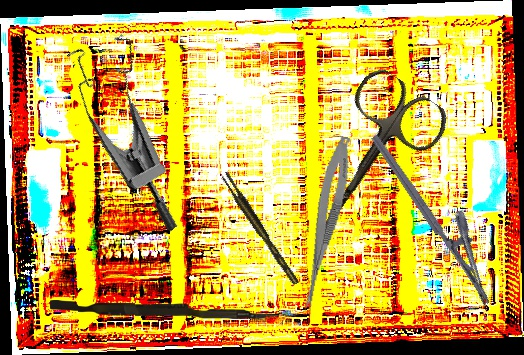Iris Scissors: (277, 62, 456, 262)
Micro Scissor: (296, 134, 357, 319)
Needle Holder: (370, 118, 514, 307)
Pusher: (49, 300, 279, 320)
Speculum: (35, 16, 244, 235)
Tissue Forceps: (219, 169, 300, 289)
